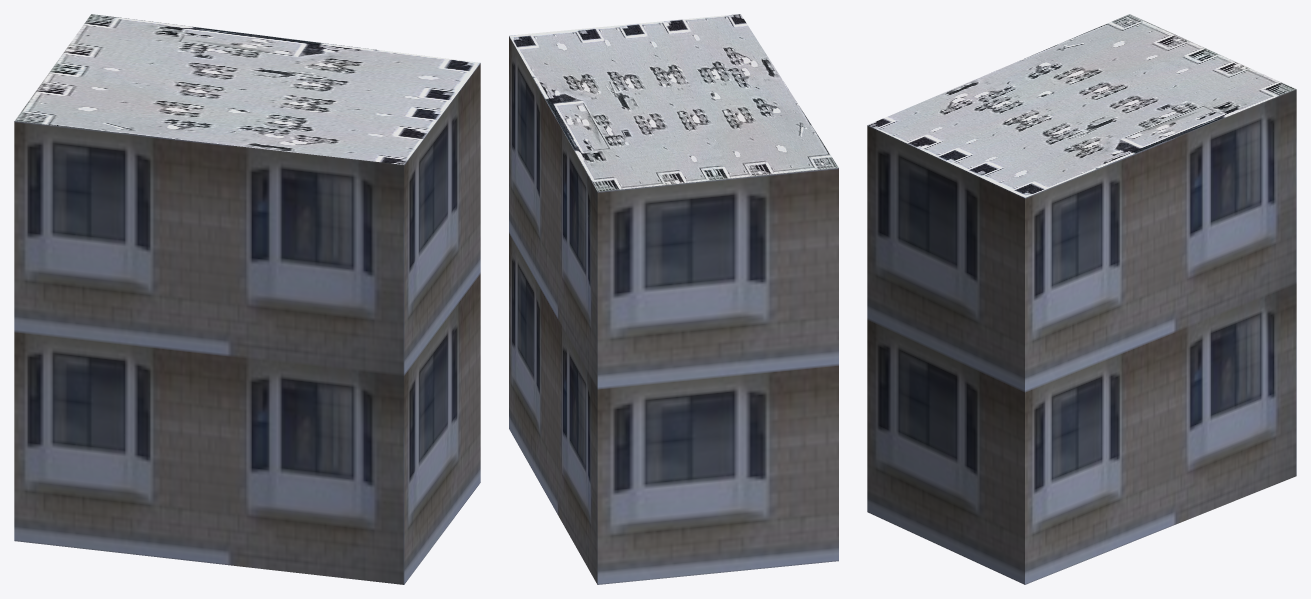
Rendered from ResTex__4136.fbx.
3 views of the same model, side by side, from view 1: azimuth 30°, elevation 25°; view 2: azimuth 150°, elevation 25°; view 3: azimuth 270°, elevation 25° (orthographic). The views are drawn at different scales.
Visible parts, largest first — view 1: CityEngineMaterial_3_m, CityEngineMaterial_4_m; view 2: CityEngineMaterial_3_m, CityEngineMaterial_4_m; view 3: CityEngineMaterial_3_m, CityEngineMaterial_4_m.
Part boxes in pixels (<box>): CityEngineMaterial_3_m: <box>14,63,480,584</box>; CityEngineMaterial_4_m: <box>15,14,480,164</box>; CityEngineMaterial_3_m: <box>509,36,838,584</box>; CityEngineMaterial_4_m: <box>509,14,838,191</box>; CityEngineMaterial_3_m: <box>867,89,1296,584</box>; CityEngineMaterial_4_m: <box>868,14,1295,197</box>.
Bounding box in the file's own units: 6.12 × 6 × 6.03.
Materials: 2 (2 with a texture image).
